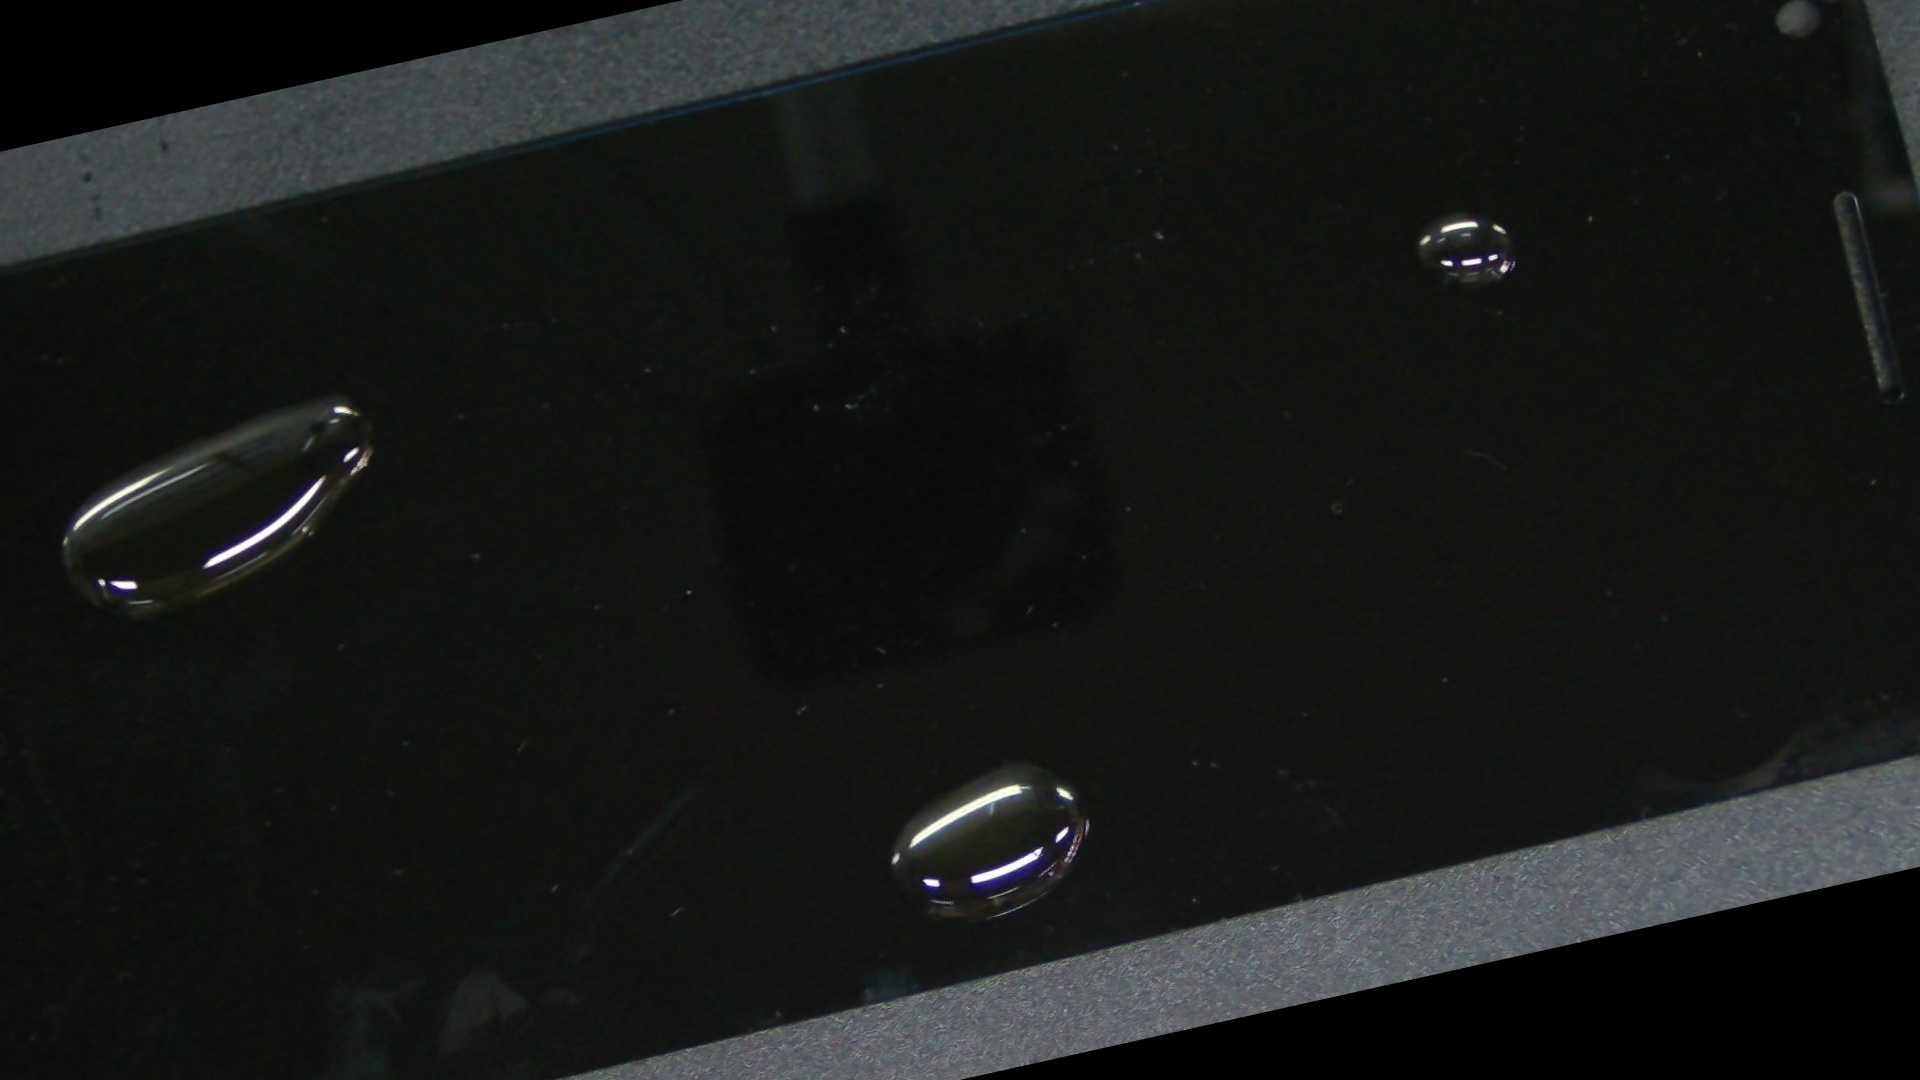oil: (335, 233, 1671, 1080), (556, 0, 1920, 585), (0, 178, 658, 616)
